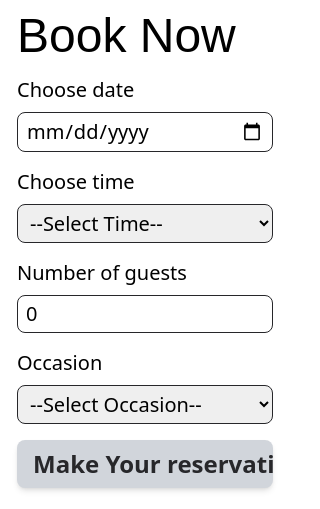
Test case: Validate booking button
This screenshot has width=320, height=509.
Type "2023-05-24" into the date field with test id "test-booking-date" at x=145, y=132, box [17,112,273,152]
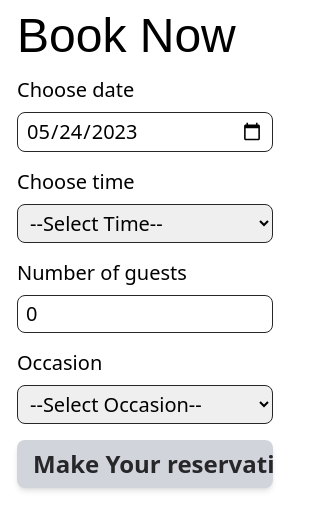
Select "18:00" in the dropdown with test id "test-booking-time" at x=145, y=224, box [17,204,273,243]
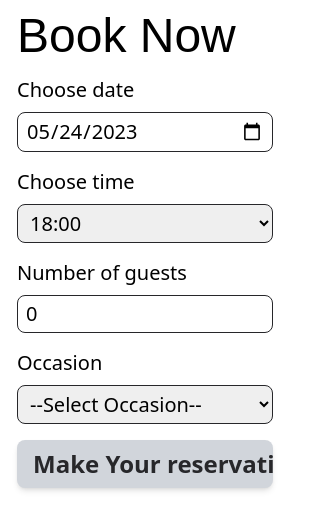
Replace the text in the number field with test id "test-booking-guests" with "5" at x=145, y=314, box [17,295,273,333]
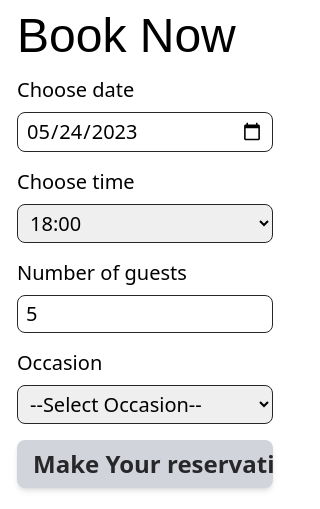
Select "Anniversary" in the dropdown with test id "test-booking-occasion" at x=145, y=404, box [17,385,273,424]
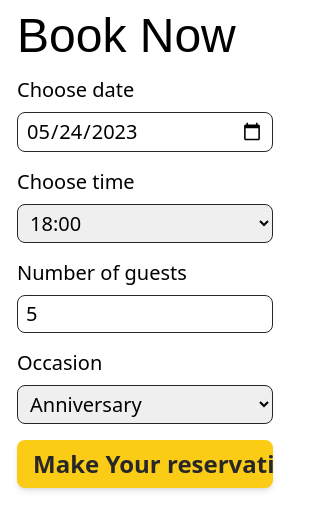
Expected: the button with test id "test-booking-reserve" is enabled, [17,440,273,488]
